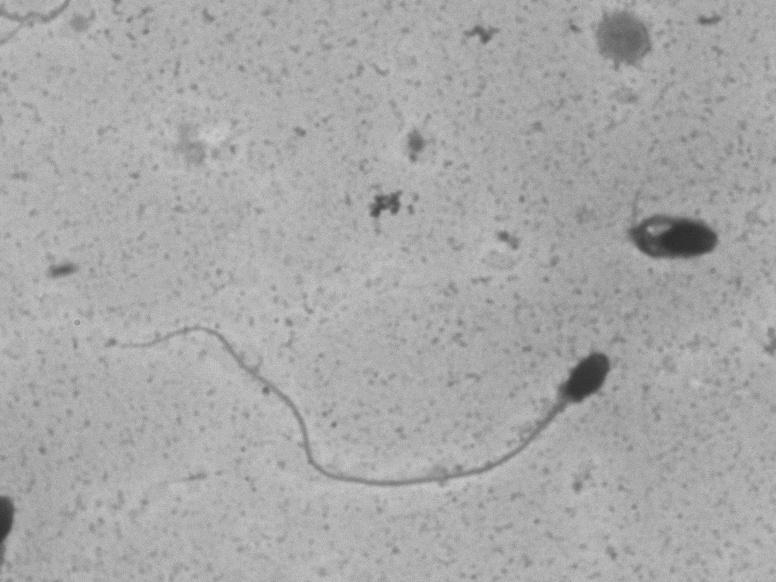Abnormal: (610, 153, 759, 292)
Normal: (77, 318, 630, 499)
